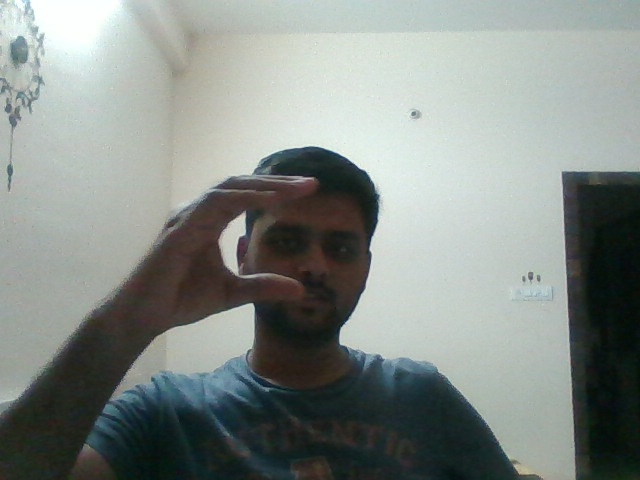no: (102, 149, 332, 329)
